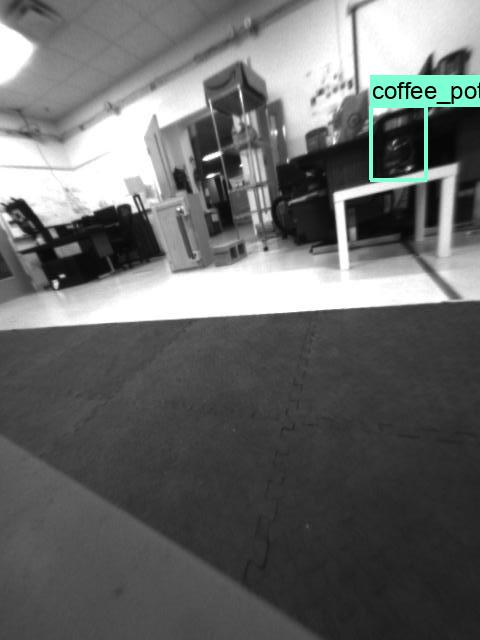coffee_pot: (371, 106, 420, 178)
